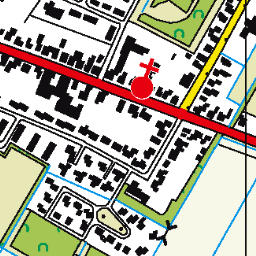church: (126, 55, 163, 101)
